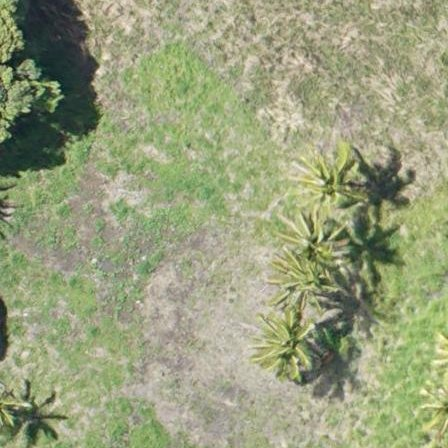palm_tree: (289, 142, 367, 214), (256, 312, 323, 383), (271, 251, 335, 310), (290, 214, 349, 265)
